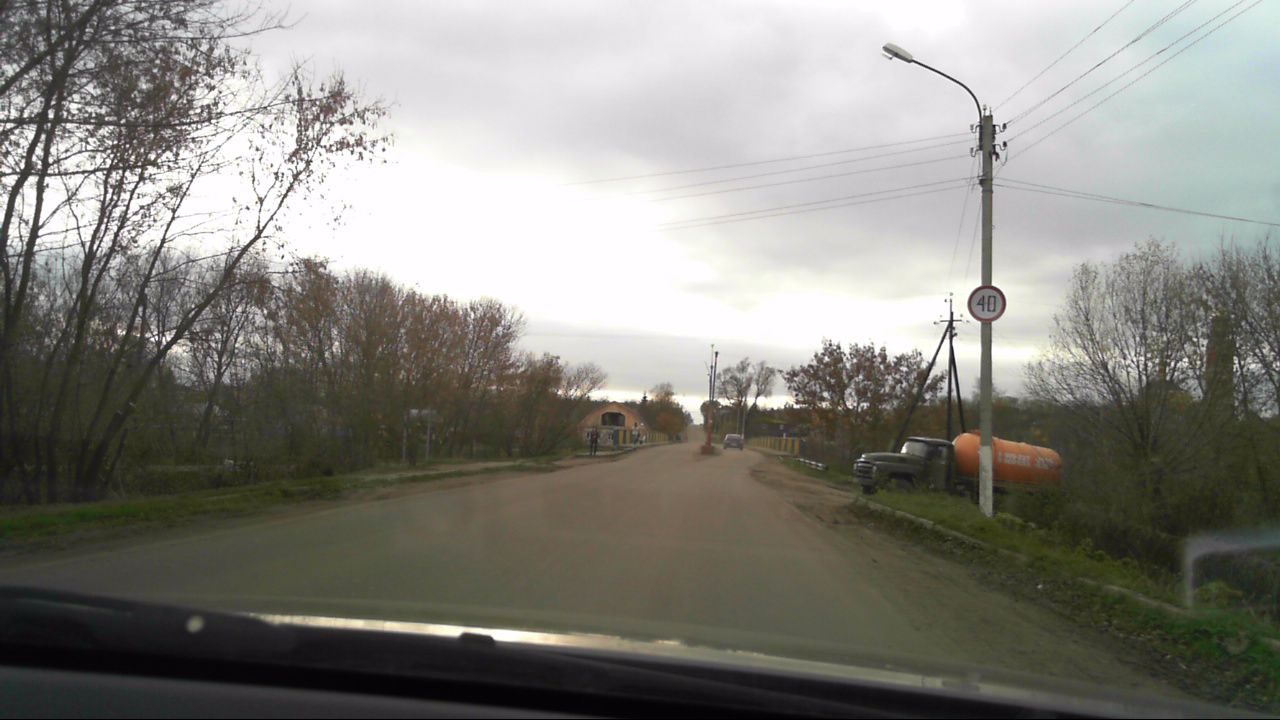speed_warning_40: (967, 285, 1007, 324)
